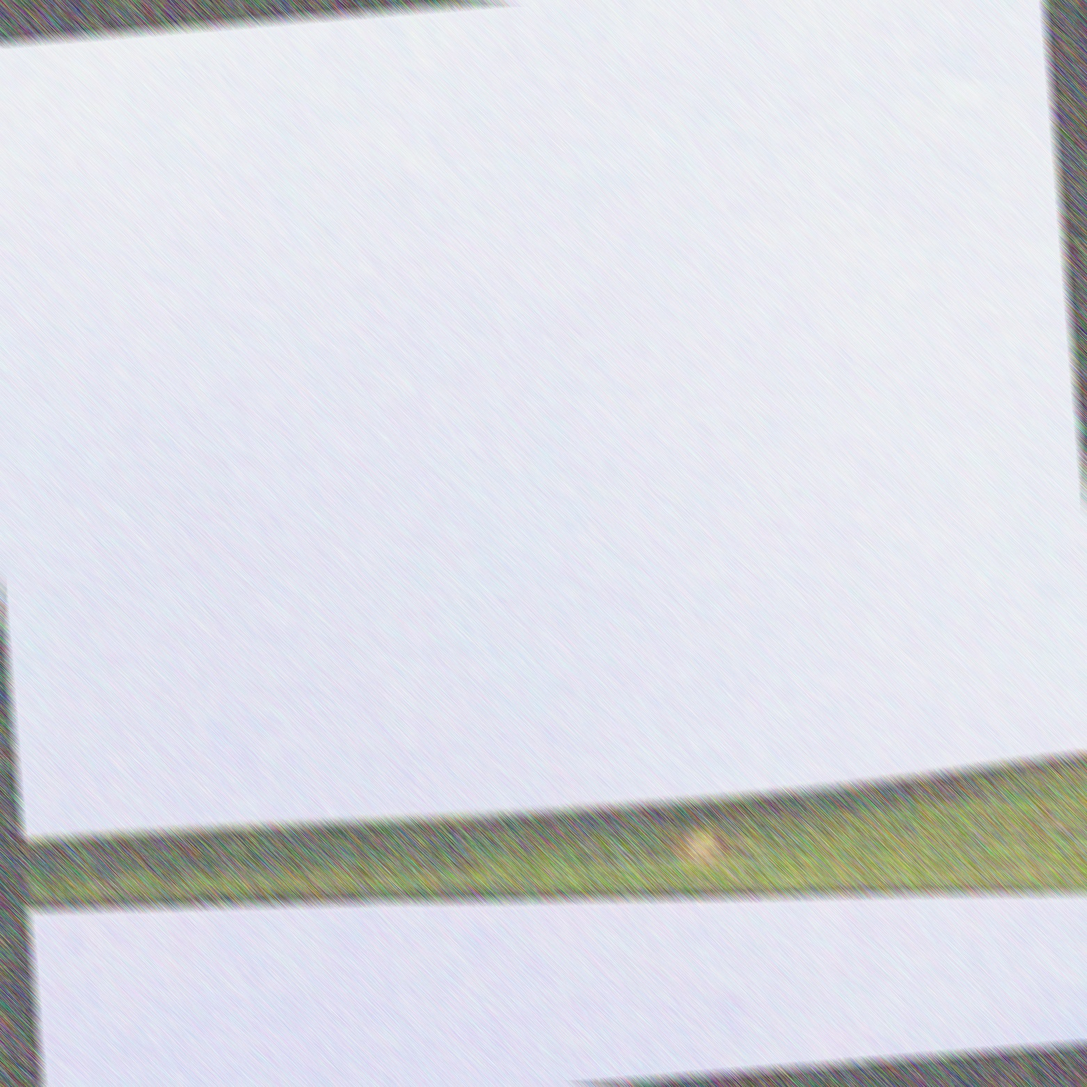Brown_Spot: (668, 824, 739, 872)
